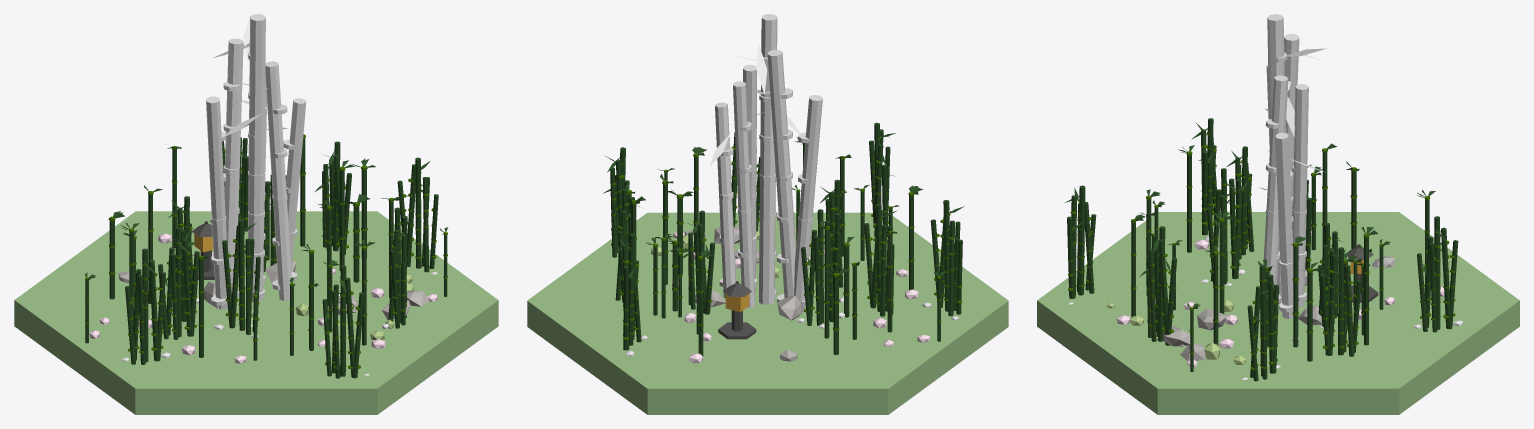
Rendered from bamboo forest tile.glb.
3 renders of one model, left to right at view 1: azimuth 30°, elevation 25°; view 2: azimuth 150°, elevation 25°; view 3: azimuth 270°, elevation 25°, orthographic.
Visible parts, largest first — view 1: Cylinder.001, Low Poly Bamboo Stalk.002, Low Poly Bamboo Stalk.003, Low Poly Bamboo Stalk.001, Low Poly Bamboo Stalk, Low Poly Bamboo Stalk.004, Low Poly Bamboo Stalk.050, Low Poly Bamboo Stalk.093, Low Poly Bamboo Stalk.099, Low Poly Bamboo Stalk.074, BambooStalk_1_2, BambooStalk_0_2 (+18 smaller); view 2: Cylinder.001, Low Poly Bamboo Stalk.002, Low Poly Bamboo Stalk.001, Low Poly Bamboo Stalk.005, Low Poly Bamboo Stalk, Low Poly Bamboo Stalk.004, Low Poly Bamboo Stalk.003, BambooStalk_3_3, Low Poly Bamboo Stalk.063, Low Poly Bamboo Stalk.105, BambooStalk_2_3.005, BambooStalk_2_3.001 (+11 smaller); view 3: Cylinder.001, Low Poly Bamboo Stalk.005, Low Poly Bamboo Stalk.004, Low Poly Bamboo Stalk.003, Low Poly Bamboo Stalk.002, Low Poly Bamboo Stalk.001, Low Poly Bamboo Stalk.099, Low Poly Bamboo Stalk.081, Low Poly Bamboo Stalk.074, Low Poly Bamboo Stalk.063, BambooStalk_0_2, Low Poly Bamboo Stalk.094 (+22 smaller).
Part boxes in pixels (x1,y1,x2,y2): Cylinder.001: [14, 211, 498, 414]; Low Poly Bamboo Stalk.002: [248, 14, 265, 302]; Low Poly Bamboo Stalk.003: [265, 61, 291, 300]; Low Poly Bamboo Stalk.001: [224, 38, 243, 293]; Low Poly Bamboo Stalk: [206, 96, 227, 309]; Low Poly Bamboo Stalk.004: [277, 98, 306, 279]; Low Poly Bamboo Stalk.050: [238, 218, 245, 330]; Low Poly Bamboo Stalk.093: [415, 157, 421, 268]; Low Poly Bamboo Stalk.099: [340, 265, 346, 376]; Low Poly Bamboo Stalk.074: [175, 227, 181, 337]; BambooStalk_1_2: [300, 138, 305, 246]; BambooStalk_0_2: [339, 170, 344, 271]; Cylinder.001: [527, 212, 1008, 414]; Low Poly Bamboo Stalk.002: [759, 14, 777, 304]; Low Poly Bamboo Stalk.001: [767, 50, 795, 297]; Low Poly Bamboo Stalk.005: [733, 81, 755, 308]; Low Poly Bamboo Stalk: [794, 95, 822, 307]; Low Poly Bamboo Stalk.004: [715, 102, 735, 298]; Low Poly Bamboo Stalk.003: [743, 64, 756, 292]; BambooStalk_3_3: [824, 229, 829, 338]; Low Poly Bamboo Stalk.063: [628, 233, 635, 345]; Low Poly Bamboo Stalk.105: [943, 200, 949, 311]; BambooStalk_2_3.005: [887, 234, 892, 332]; BambooStalk_2_3.001: [698, 260, 703, 356]; Cylinder.001: [1037, 212, 1519, 414]; Low Poly Bamboo Stalk.005: [1292, 84, 1308, 307]; Low Poly Bamboo Stalk.004: [1275, 132, 1293, 318]; Low Poly Bamboo Stalk.003: [1263, 75, 1288, 286]; Low Poly Bamboo Stalk.002: [1267, 14, 1285, 303]; Low Poly Bamboo Stalk.001: [1284, 33, 1299, 215]; Low Poly Bamboo Stalk.099: [1078, 185, 1085, 295]; Low Poly Bamboo Stalk.081: [1338, 247, 1343, 355]; Low Poly Bamboo Stalk.074: [1241, 146, 1247, 255]; Low Poly Bamboo Stalk.063: [1434, 216, 1440, 329]; BambooStalk_0_2: [1293, 246, 1298, 347]; Low Poly Bamboo Stalk.094: [1268, 274, 1274, 373].
Bounding box in the file's own units: 4.33 × 3.62 × 5.
